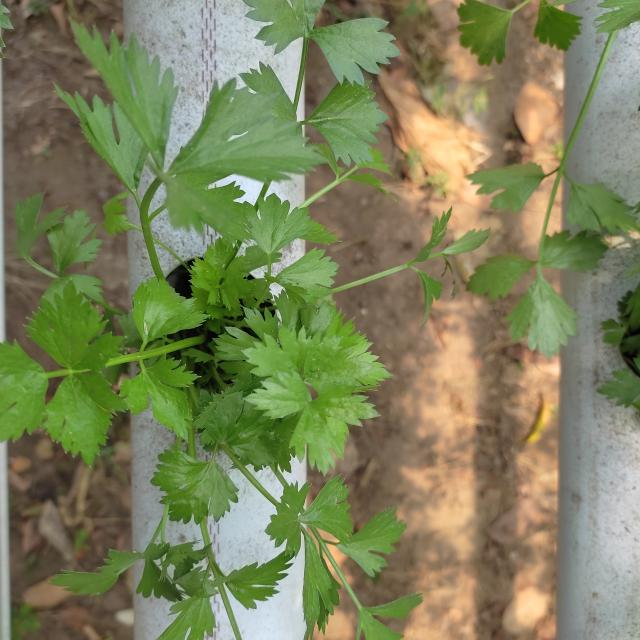Wet Waste: (43, 233, 632, 612)
